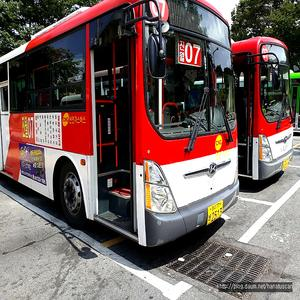07bus: (1, 7, 249, 234), (234, 34, 294, 189)
frontdoor: (91, 23, 136, 239), (229, 56, 252, 188)
